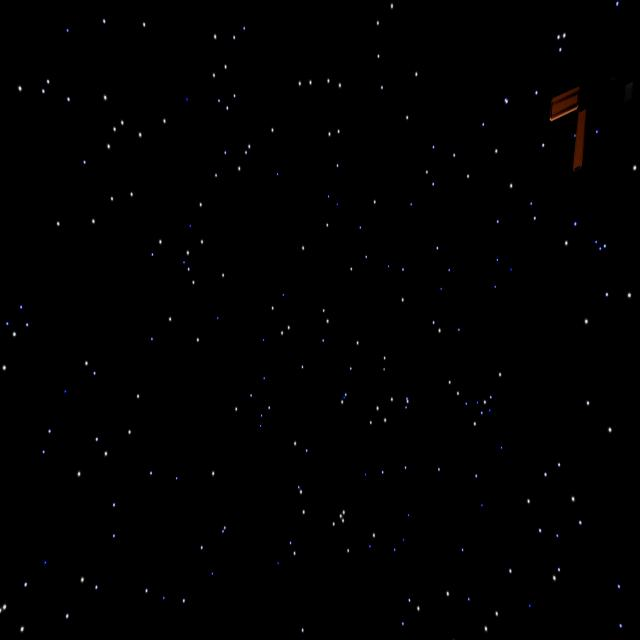satellite: (539, 57, 631, 176)
